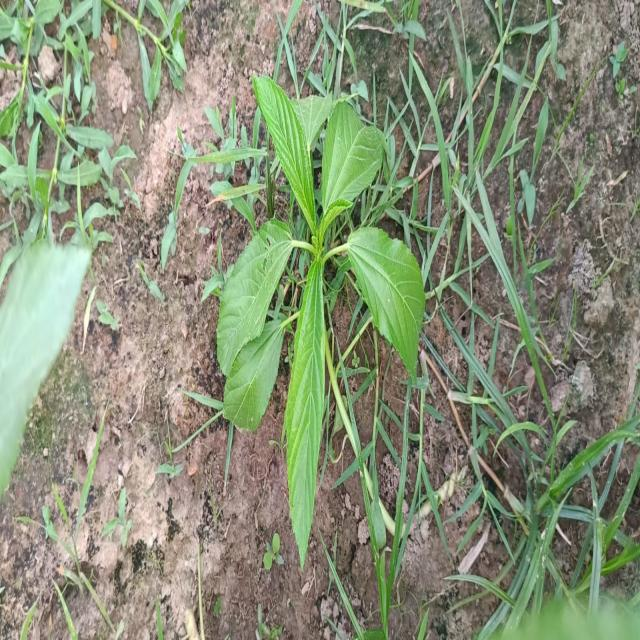plant: (217, 75, 426, 564)
